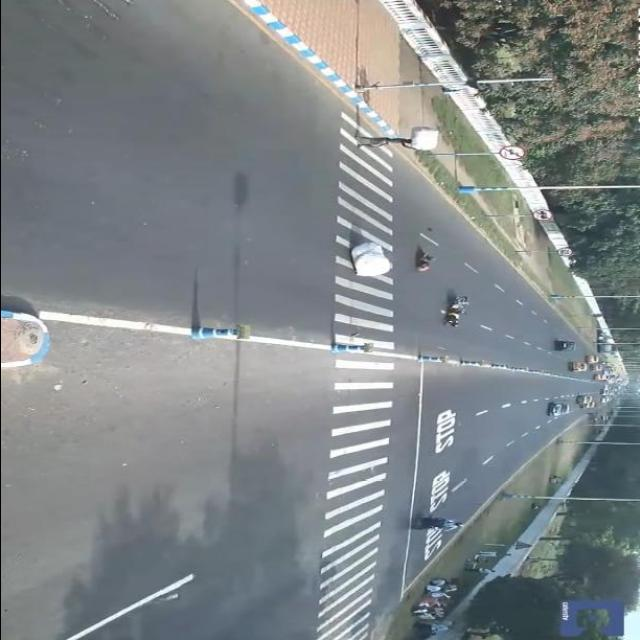accident: (433, 289, 487, 331), (409, 245, 445, 283)
